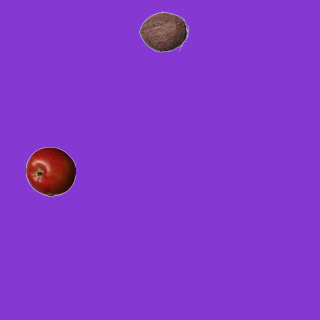Apple Braeburn: (25, 146, 75, 196)
Cocos: (138, 6, 188, 56)
